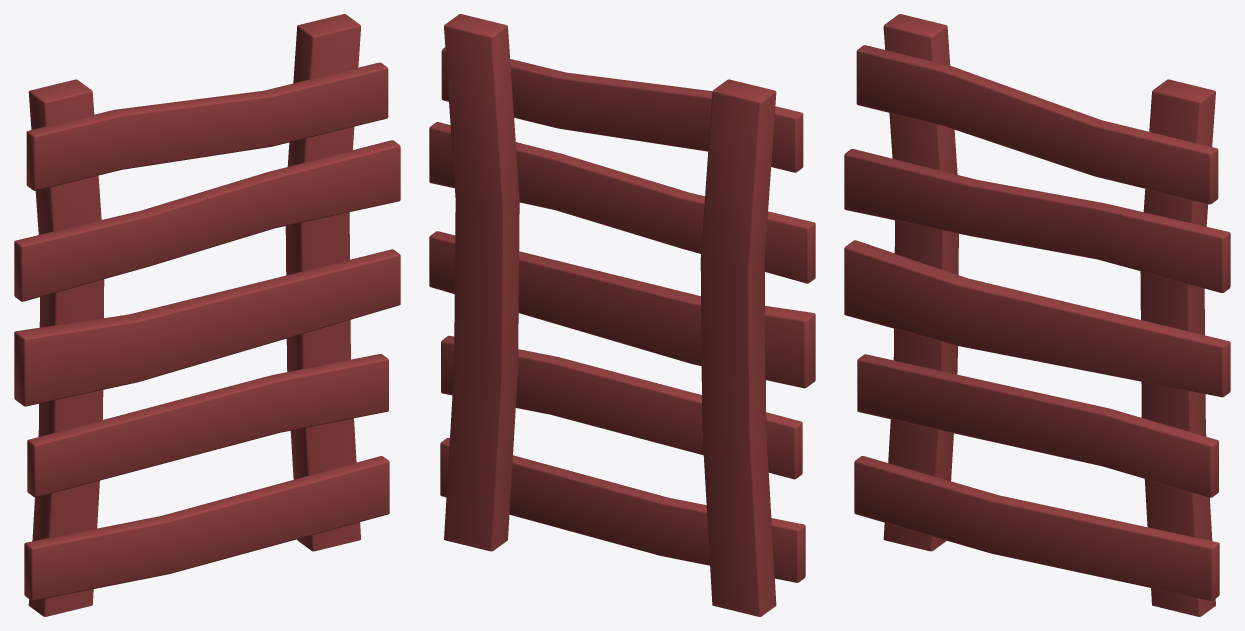
The model's file is echelle_1bloc.fbx.
3 renders of one model, left to right at view 1: azimuth 30°, elevation 25°; view 2: azimuth 150°, elevation 25°; view 3: azimuth 330°, elevation 25°, orthographic.
Visible parts, largest first — view 1: echelle_01_part01, echelle_01_part04, echelle_01_part05, echelle_01_part02, echelle_01_part03, echelle_01_part06; view 2: echelle_01_part01, echelle_01_part04, echelle_01_part05, echelle_01_part02, echelle_01_part03, echelle_01_part06; view 3: echelle_01_part01, echelle_01_part04, echelle_01_part05, echelle_01_part02, echelle_01_part06, echelle_01_part03.
Boxes of the visible parts, x1,y1,x2,y2 form: echelle_01_part01: (28,14,360,616); echelle_01_part04: (14,249,400,406); echelle_01_part05: (14,140,400,301); echelle_01_part02: (24,456,389,600); echelle_01_part03: (27,354,388,497); echelle_01_part06: (26,62,388,190); echelle_01_part01: (444,14,776,616); echelle_01_part04: (429,231,815,388); echelle_01_part05: (429,122,815,283); echelle_01_part02: (440,437,805,582); echelle_01_part03: (441,335,802,479); echelle_01_part06: (441,47,803,172); echelle_01_part01: (883,14,1215,616); echelle_01_part04: (844,240,1230,397); echelle_01_part05: (844,149,1230,292); echelle_01_part02: (854,456,1219,600); echelle_01_part06: (856,45,1218,204); echelle_01_part03: (857,354,1218,497).
Size of the model in its own units: 1.55 by 2.01 by 0.1855.
